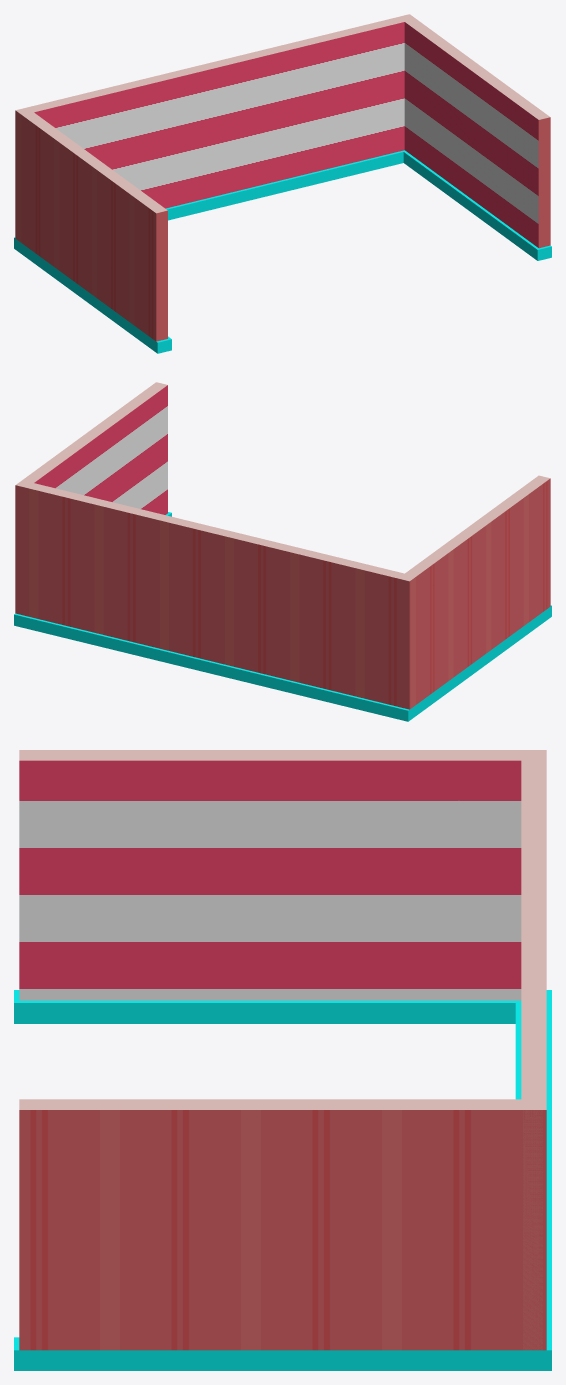
Rendered from Room02-7_Wall_geo.fbx.
3 views of the same model, one above another, from view 1: azimuth 30°, elevation 25°; view 2: azimuth 150°, elevation 25°; view 3: azimuth 270°, elevation 25° (orthographic). The views are drawn at different scales.
Parts seen in each view (by area): view 1: Room02-7_Wall_geo; view 2: Room02-7_Wall_geo; view 3: Room02-7_Wall_geo.
Boxes of the visible parts, box(x1,y1,x2,y2) form: Room02-7_Wall_geo: box(14, 14, 551, 353); Room02-7_Wall_geo: box(14, 382, 551, 721); Room02-7_Wall_geo: box(14, 750, 551, 1370).
Bounding box in the file's own units: 6.03 × 3.81 × 2.04.
